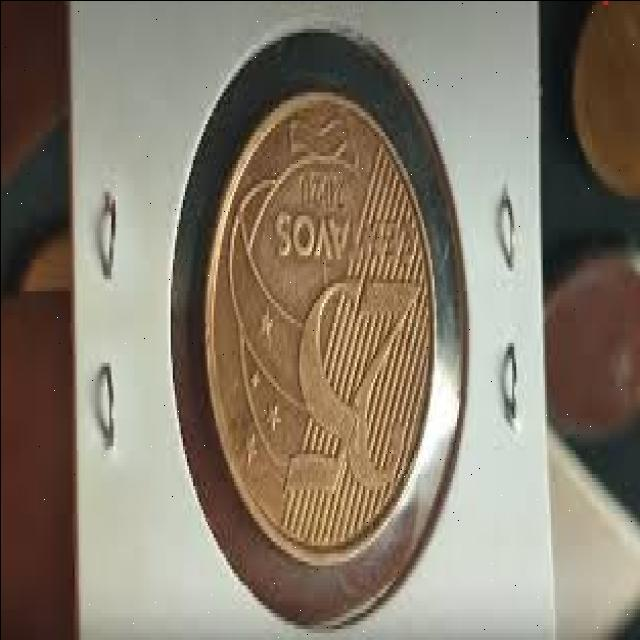25 cent: (202, 104, 434, 566)
